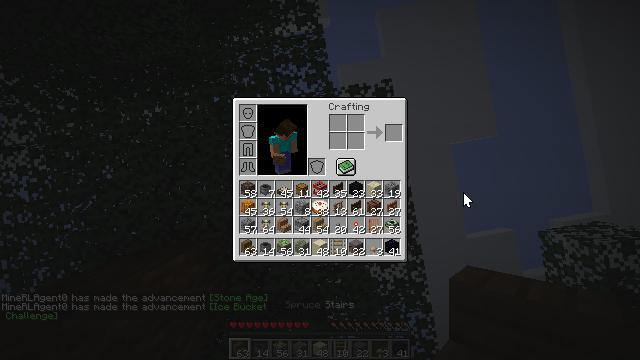cursor: (463, 192, 473, 208)
